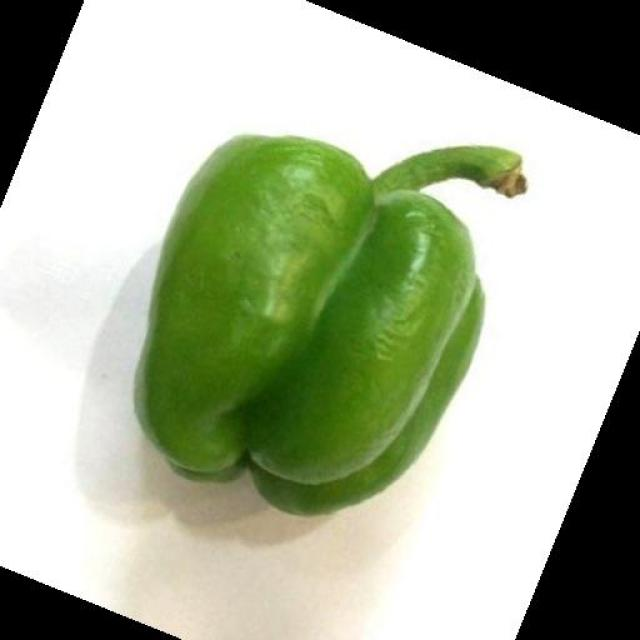Fresh_Capsicum: (177, 167, 507, 446)
